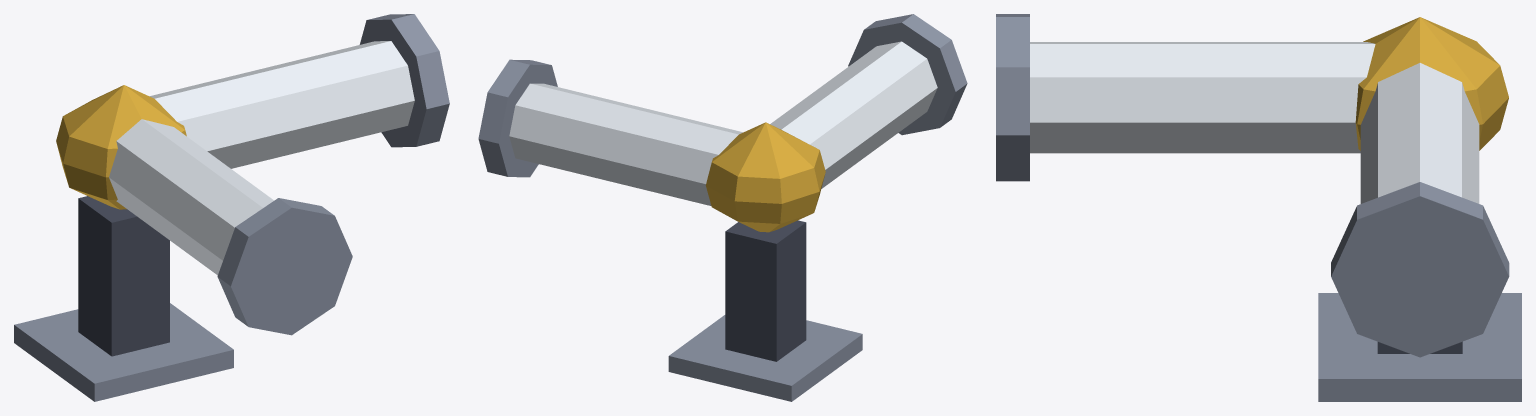
The model's file is steam-pipe-elbow.glb.
The picture shows the model from 3 angles, left to right: view 1: azimuth 30°, elevation 25°; view 2: azimuth 150°, elevation 25°; view 3: azimuth 270°, elevation 25°; orthographic projection. The views are drawn at different scales.
Visible parts, largest first — view 1: steam-pipe-elbow; view 2: steam-pipe-elbow; view 3: steam-pipe-elbow.
Part boxes in pixels (x1,y1,x2,y2): steam-pipe-elbow: (14,14,449,401); steam-pipe-elbow: (478,14,967,401); steam-pipe-elbow: (996,14,1521,401).
Bounding box in the file's own units: 0.62 × 0.445 × 0.62.
1 material, 1 textured.
